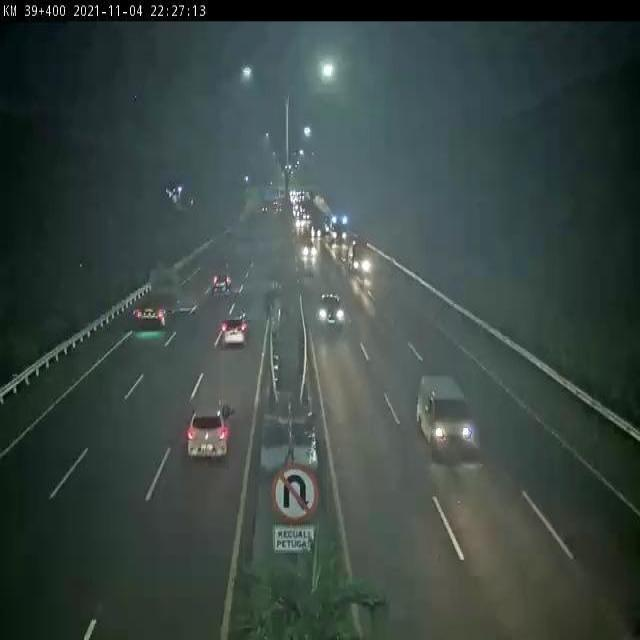Car: (186, 403, 236, 460), (318, 292, 345, 332), (220, 313, 248, 350), (211, 272, 233, 294)
Truck: (134, 268, 181, 332)
Van: (415, 377, 476, 457)
